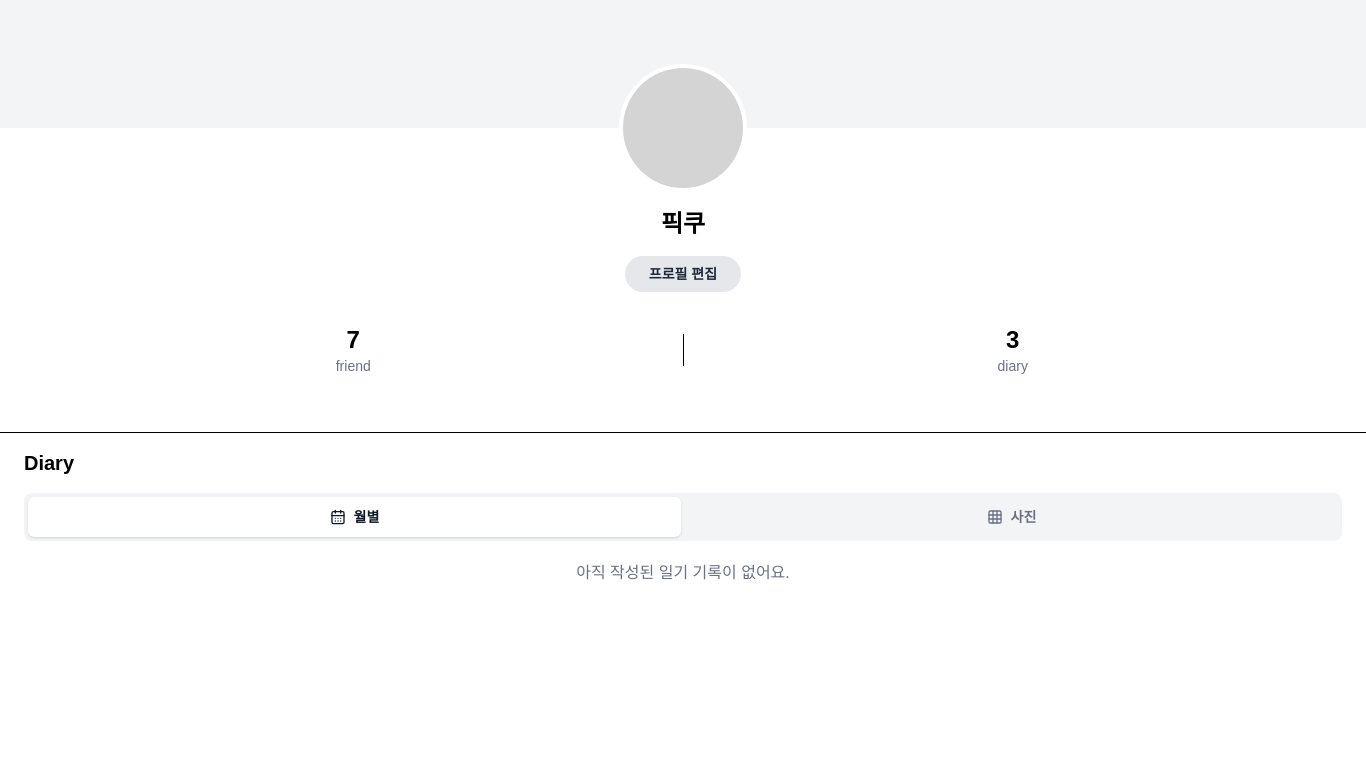
Test case: ProfileClient › 사진 더 보기 로딩 중 기존 사진 뒤에 3개의 스켈레톤을 표시한다
The image size is (1366, 768).
What coordinates should you click on to do the following:
click the button "사진"
I would click on:
 (1012, 517)
Its box is top-left (685, 497), bottom-right (1338, 537).
(page scrolled)
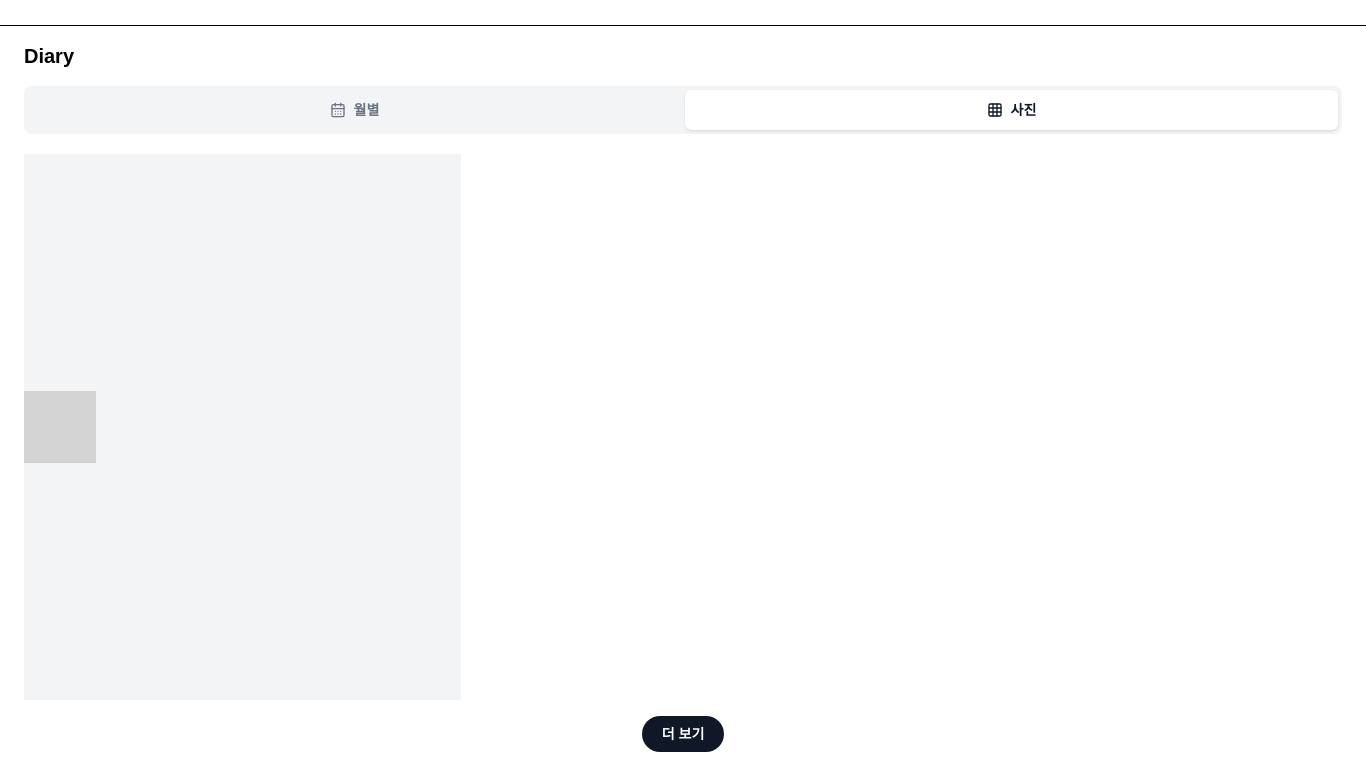
What coordinates should you click on to do the following:
click the button "더 보기"
I would click on:
 (683, 734)
Its box is top-left (642, 716), bottom-right (724, 752).
(page scrolled)
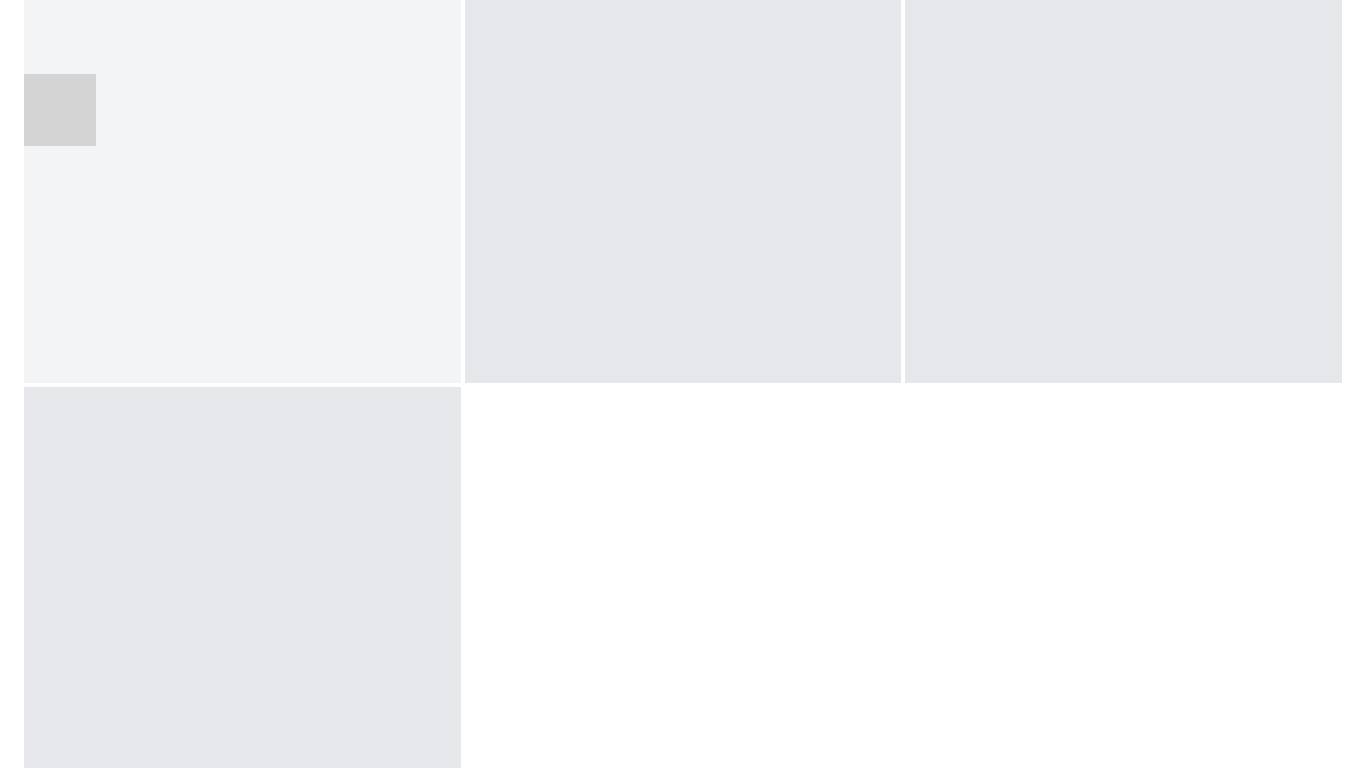
expect the button "더 보기" is gone: met
